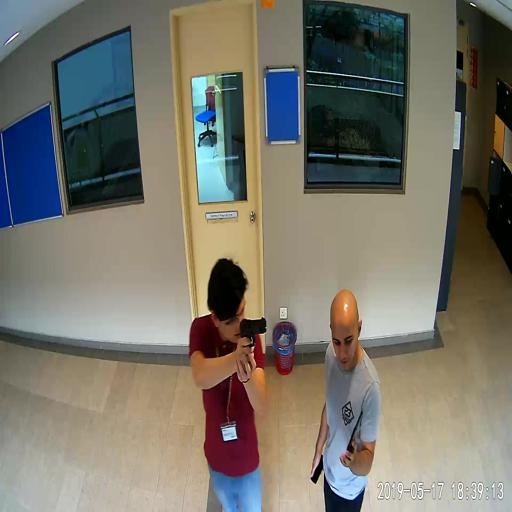pistol: (239, 316, 266, 363)
